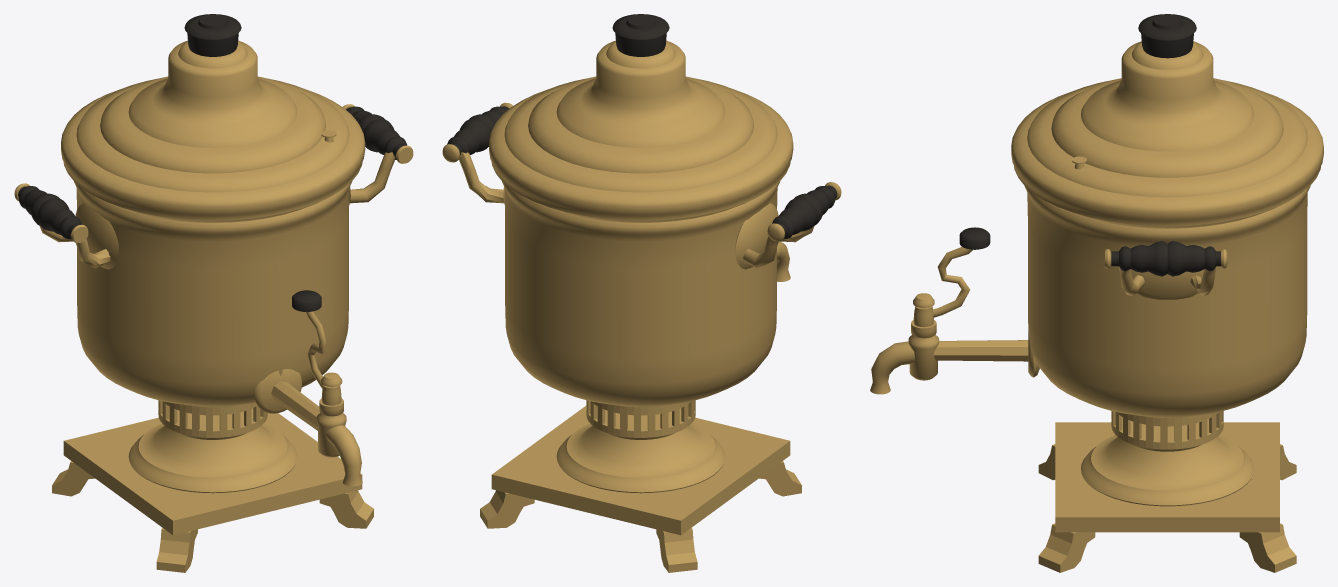
File: NEW458_samovar_LOD1.glb
The picture shows the model from 3 angles, left to right: view 1: azimuth 30°, elevation 25°; view 2: azimuth 150°, elevation 25°; view 3: azimuth 270°, elevation 25°; orthographic projection. The views are drawn at different scales.
Visible parts, largest first — view 1: Reservoir_closed, Stepped_lid_closed, Square_base_plate, Pedestal_turned, Perforated_neck_24_open_vents, Top_cap_fixed, Turned_handle_grip_-1, Turned_handle_grip_1, Handle_leaf_plate_-1, Foot_-1_-1, Valve_fixed_body, Foot_1_-1 (+8 smaller); view 2: Reservoir_closed, Stepped_lid_closed, Square_base_plate, Pedestal_turned, Perforated_neck_24_open_vents, Top_cap_fixed, Turned_handle_grip_-1, Turned_handle_grip_1, Handle_leaf_plate_-1, Foot_-1_1, Foot_1_1, Handle_bracket_1_1 (+2 smaller); view 3: Reservoir_closed, Stepped_lid_closed, Square_base_plate, Pedestal_turned, Perforated_neck_24_open_vents, Turned_handle_grip_1, Top_cap_fixed, Tap_supply_shank, Valve_fixed_body, Foot_1_-1, Foot_1_1, Handle_leaf_plate_1 (+3 smaller).
Boxes of the visible parts, bbox=[...] form: Reservoir_closed: bbox=[74, 181, 352, 407]; Stepped_lid_closed: bbox=[61, 40, 365, 222]; Square_base_plate: bbox=[63, 413, 362, 535]; Pedestal_turned: bbox=[128, 406, 297, 493]; Perforated_neck_24_open_vents: bbox=[158, 400, 267, 437]; Top_cap_fixed: bbox=[184, 14, 241, 56]; Turned_handle_grip_-1: bbox=[18, 186, 82, 239]; Turned_handle_grip_1: bbox=[346, 106, 406, 159]; Handle_leaf_plate_-1: bbox=[75, 203, 118, 269]; Foot_-1_-1: bbox=[156, 528, 197, 572]; Valve_fixed_body: bbox=[316, 372, 346, 457]; Foot_1_-1: bbox=[319, 490, 373, 528]; Reservoir_closed: bbox=[502, 181, 780, 407]; Stepped_lid_closed: bbox=[489, 40, 793, 222]; Square_base_plate: bbox=[491, 406, 790, 535]; Pedestal_turned: bbox=[556, 406, 725, 493]; Perforated_neck_24_open_vents: bbox=[586, 400, 695, 437]; Top_cap_fixed: bbox=[612, 14, 669, 56]; Turned_handle_grip_-1: bbox=[772, 185, 837, 239]; Turned_handle_grip_1: bbox=[447, 106, 509, 159]; Handle_leaf_plate_-1: bbox=[735, 203, 778, 269]; Foot_-1_1: bbox=[656, 528, 697, 572]; Foot_1_1: bbox=[480, 490, 534, 528]; Handle_bracket_1_1: bbox=[459, 152, 503, 203]; Reservoir_closed: bbox=[1024, 186, 1310, 417]; Stepped_lid_closed: bbox=[1011, 41, 1323, 228]; Square_base_plate: bbox=[1055, 422, 1279, 532]; Pedestal_turned: bbox=[1081, 417, 1254, 506]; Perforated_neck_24_open_vents: bbox=[1111, 411, 1223, 449]; Turned_handle_grip_1: bbox=[1111, 241, 1220, 276]; Top_cap_fixed: bbox=[1138, 14, 1196, 58]; Tap_supply_shank: bbox=[933, 340, 1028, 361]; Valve_fixed_body: bbox=[908, 293, 939, 380]; Foot_1_-1: bbox=[1038, 523, 1095, 572]; Foot_1_1: bbox=[1239, 523, 1296, 572]; Handle_leaf_plate_1: bbox=[1131, 269, 1203, 299].
Bounding box in the file's own units: 0.3302 × 0.4318 × 0.3556.
